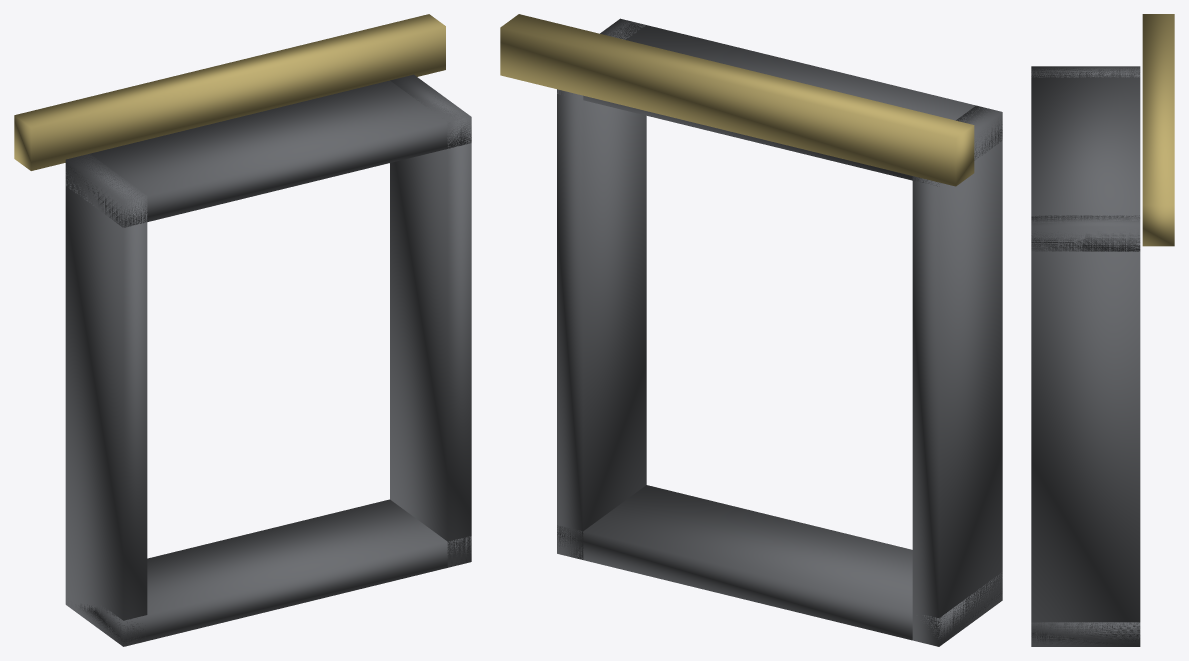
The model's file is egress_window_motel_w72_h90_s88_d24.glb.
3 views of the same model, side by side, from view 1: azimuth 30°, elevation 25°; view 2: azimuth 150°, elevation 25°; view 3: azimuth 270°, elevation 25° (orthographic). The views are drawn at different scales.
Visible parts, largest first — view 1: world; view 2: world; view 3: world.
Part boxes in pixels (box(x1,y1,x2,y2)): world: box(14, 14, 471, 646); world: box(500, 14, 1002, 646); world: box(1031, 14, 1174, 646).
Size of the model in its own units: 0.9952 by 1.11 by 0.315.
